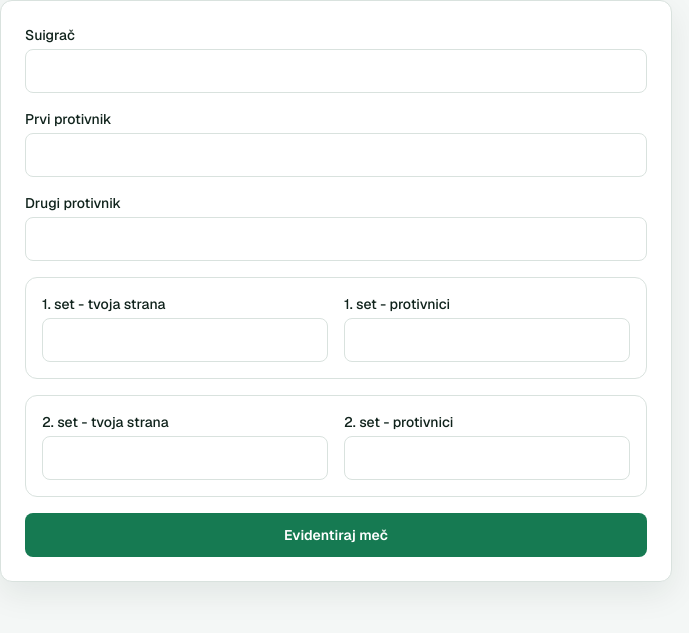
Test case: RecordMatchForm › entered games survive a failed validation
Step 1. Type "6" into the field labelled "1. set - tvoja strana" → (185, 340), box [42,318,328,362]
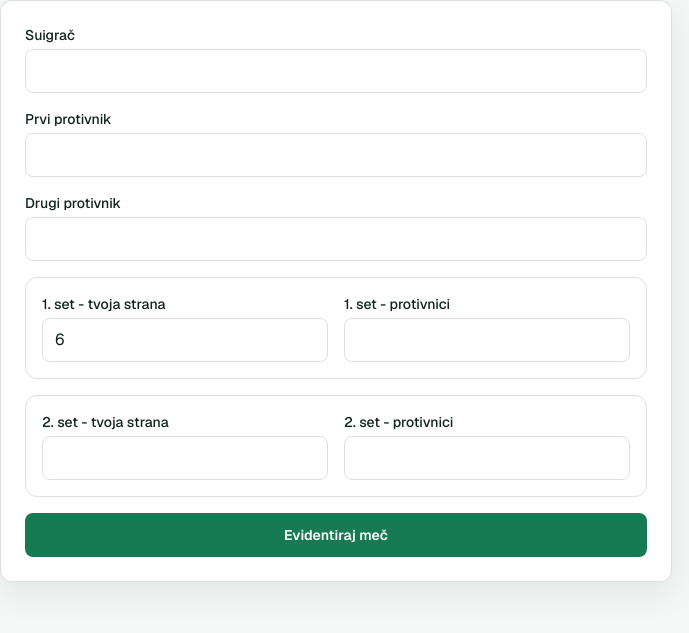
Step 2. Type "4" into the field labelled "1. set - protivnici" → (487, 340), box [344,318,630,362]
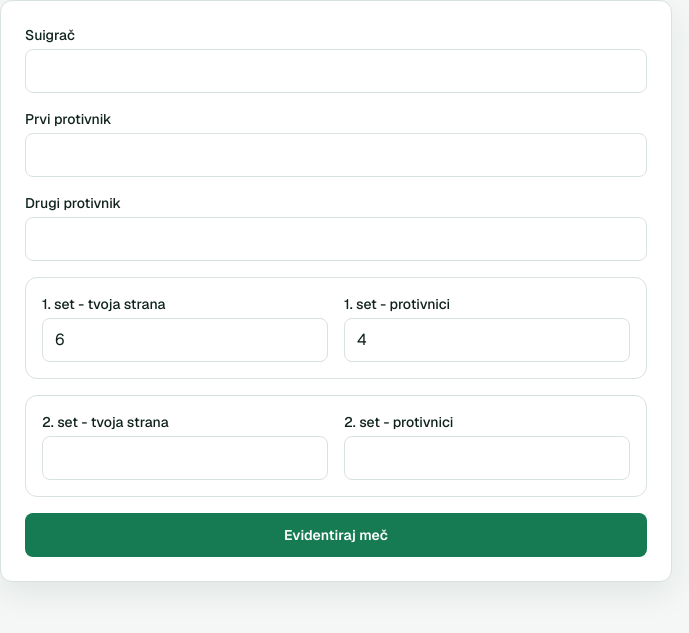
Step 3. Type "7" into the field labelled "2. set - tvoja strana" → (185, 458), box [42,436,328,480]
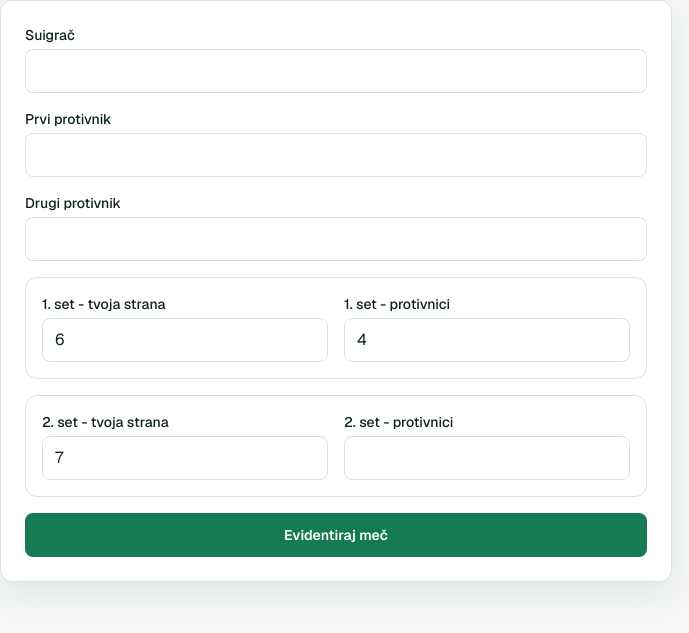
Step 4. Type "4" into the field labelled "2. set - protivnici" → (487, 458), box [344,436,630,480]
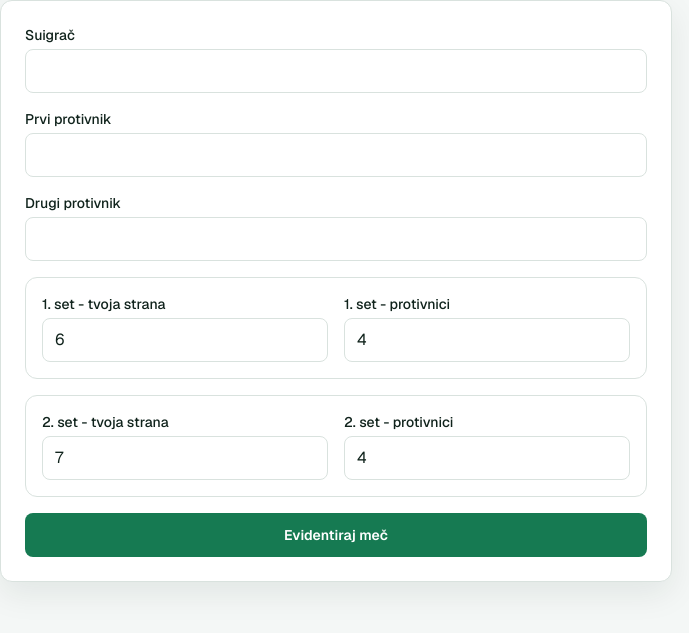
Step 5. Submit the form with test id "record-match-form"
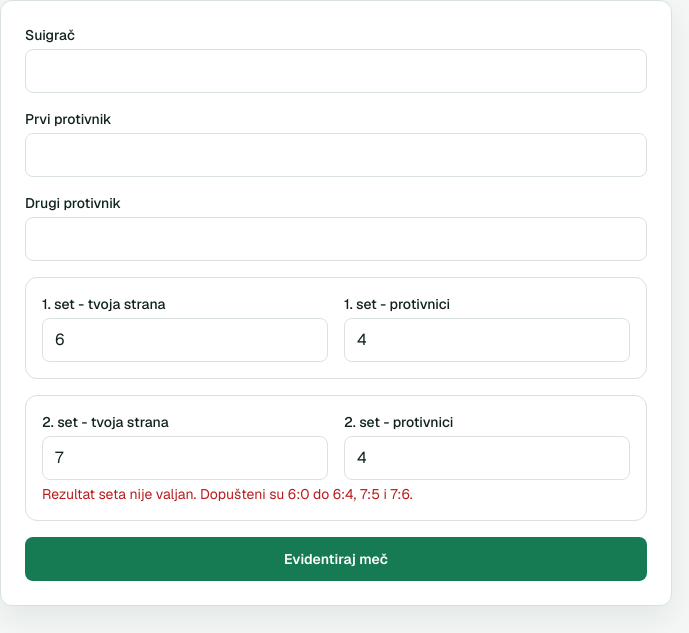
Expected: the text "Rezultat seta nije valjan. Dopušteni su 6:0 do 6:4, 7:5 i 7:6." is shown, [42,485,413,503]
